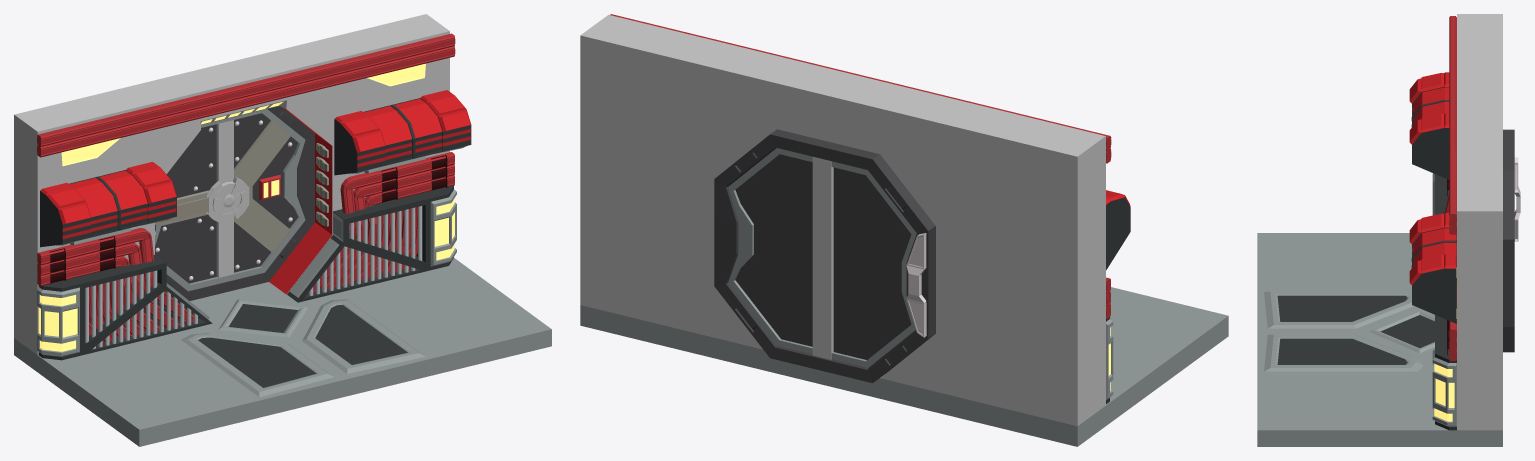
Rendered from SCI-Fi DooR.fbx.
3 views of the same model, side by side, from view 1: azimuth 30°, elevation 25°; view 2: azimuth 150°, elevation 25°; view 3: azimuth 270°, elevation 25° (orthographic). The views are drawn at different scales.
Visible parts, largest first — view 1: Стена, арка двери, Стена.001, Куб.005, Куб.008, провода.002, провода, Стена.003, Стена.004, провода.001, провода.003, Стена.002 (+6 smaller); view 2: Стена, арка двери, подарка двери, Плоскость.001, крепеж замка, Куб.008, провода.002; view 3: Стена, Стена.004, Стена.003, Куб.005, Куб.008, арка двери, Стена.002, Плоскость, провода.002, Стена.001, крепеж замка, провода.
Boxes of the visible parts, x1,y1,x2,y2 form: Стена: (14,14,551,446); арка двери: (155,106,314,300); Стена.001: (38,185,453,360); Куб.005: (334,90,471,175); Куб.008: (40,162,176,247); провода.002: (37,33,455,146); провода: (308,152,454,293); Стена.003: (181,333,333,397); Стена.004: (302,299,425,373); провода.001: (37,228,198,344); провода.003: (37,46,455,157); Стена.002: (37,189,456,356); Стена: (580,14,1228,446); арка двери: (714,129,935,383); подарка двери: (728,148,916,367); Плоскость.001: (812,157,833,359); крепеж замка: (906,233,926,337); Куб.008: (1106,190,1130,270); провода.002: (610,14,1111,150); Стена: (1257,14,1502,446); Стена.004: (1264,334,1423,371); Стена.003: (1264,291,1413,328); Куб.005: (1409,213,1456,323); Куб.008: (1409,72,1449,179); арка двери: (1503,129,1514,352); Стена.002: (1432,173,1456,426); Плоскость: (1369,310,1434,353); провода.002: (1449,16,1456,224); Стена.001: (1435,174,1456,430); крепеж замка: (1514,157,1520,241); провода: (1449,282,1456,360).
Bounding box in the file's own units: 488 × 271 × 273.
